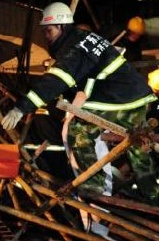boots: (0, 233, 18, 241)
gloves: (0, 106, 24, 130), (0, 127, 11, 143)
hard-hat: (0, 110, 23, 146)
ppe-suit: (0, 88, 31, 241)
vest: (9, 26, 157, 114)
